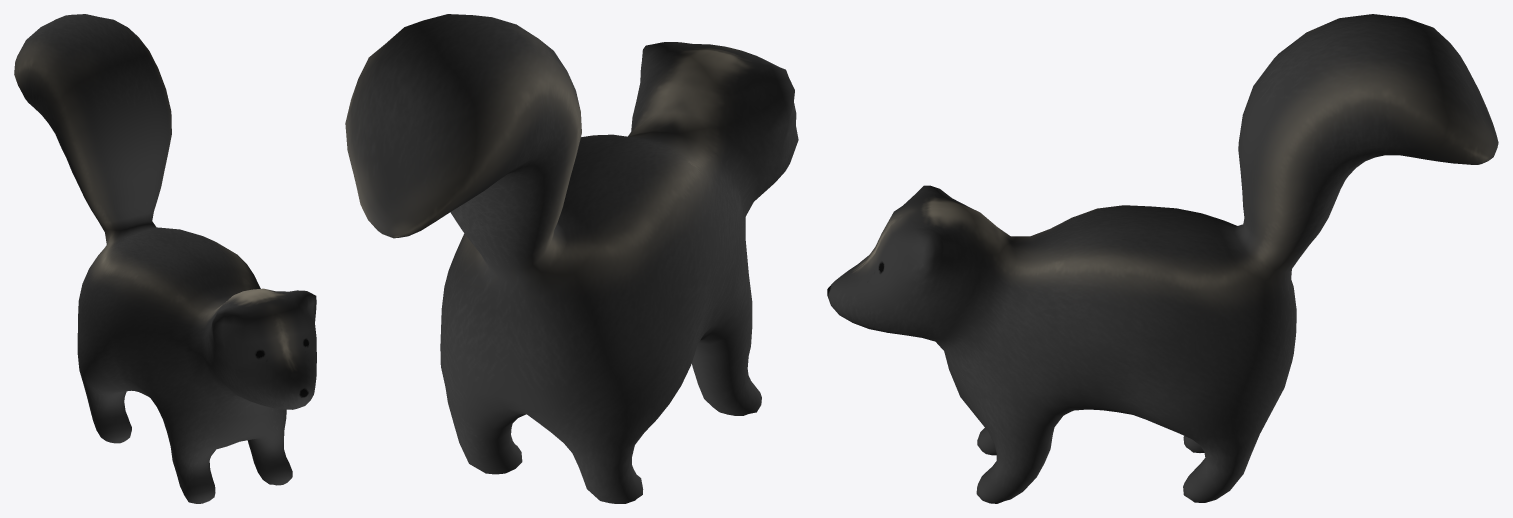
Rendered from Skunksf.obj.
3 renders of one model, left to right at view 1: azimuth 30°, elevation 25°; view 2: azimuth 150°, elevation 25°; view 3: azimuth 270°, elevation 25°, orthographic. The views are drawn at different scales.
Parts seen in each view (by area): view 1: PM3D_Sphere3D_3; view 2: PM3D_Sphere3D_3; view 3: PM3D_Sphere3D_3.
Boxes of the visible parts, x1,y1,x2,y2 form: PM3D_Sphere3D_3: [14, 14, 316, 503]; PM3D_Sphere3D_3: [345, 14, 798, 503]; PM3D_Sphere3D_3: [827, 14, 1498, 503].
Size of the model in its own units: 3.37 by 7.72 by 10.37.
1 material, 1 textured.
